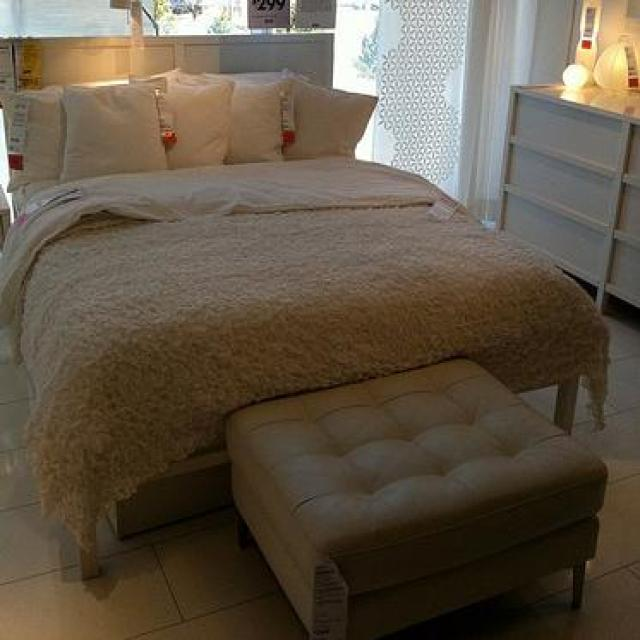bed: (0, 0, 611, 580)
